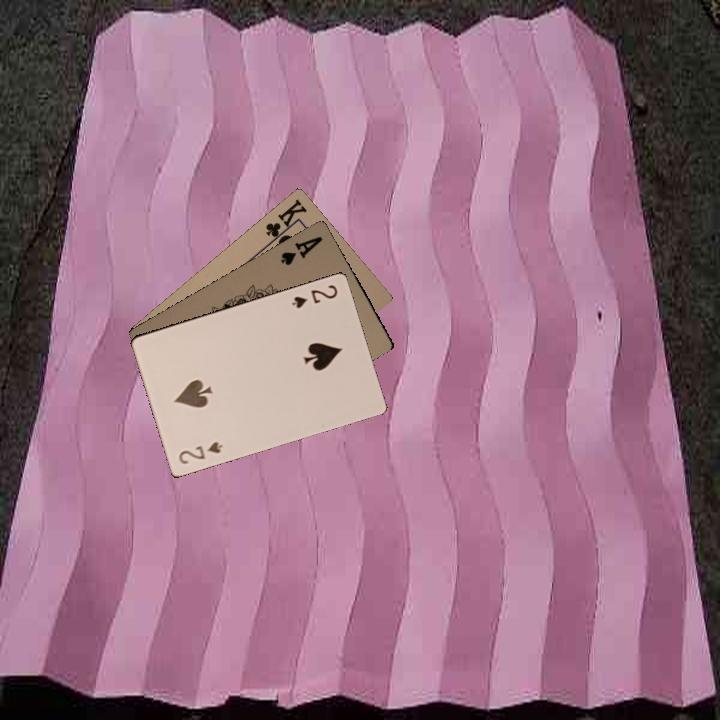2s: (288, 281, 340, 311), (175, 437, 225, 467)
As: (276, 232, 325, 268)
Kc: (261, 195, 311, 246)
